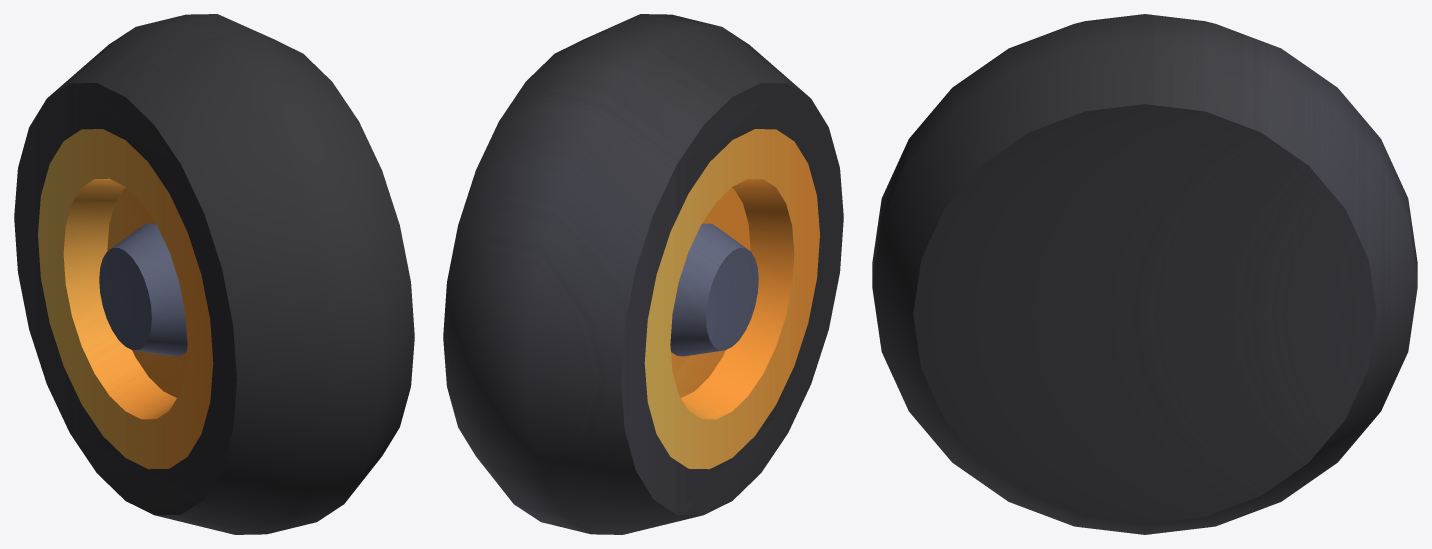
The model's file is Tractor_BackWheel.glb.
The picture shows the model from 3 angles, left to right: view 1: azimuth 30°, elevation 25°; view 2: azimuth 150°, elevation 25°; view 3: azimuth 270°, elevation 25°; orthographic projection. The views are drawn at different scales.
Parts seen in each view (by area): view 1: wheel-back-right; view 2: wheel-back-right; view 3: wheel-back-right.
Part boxes in pixels (box(x1,y1,x2,y2)): wheel-back-right: box(14, 14, 414, 534); wheel-back-right: box(443, 14, 843, 534); wheel-back-right: box(872, 14, 1417, 534).
Size of the model in its own units: 34.27 by 87.52 by 87.52.
Materials: 1 (1 with a texture image).
